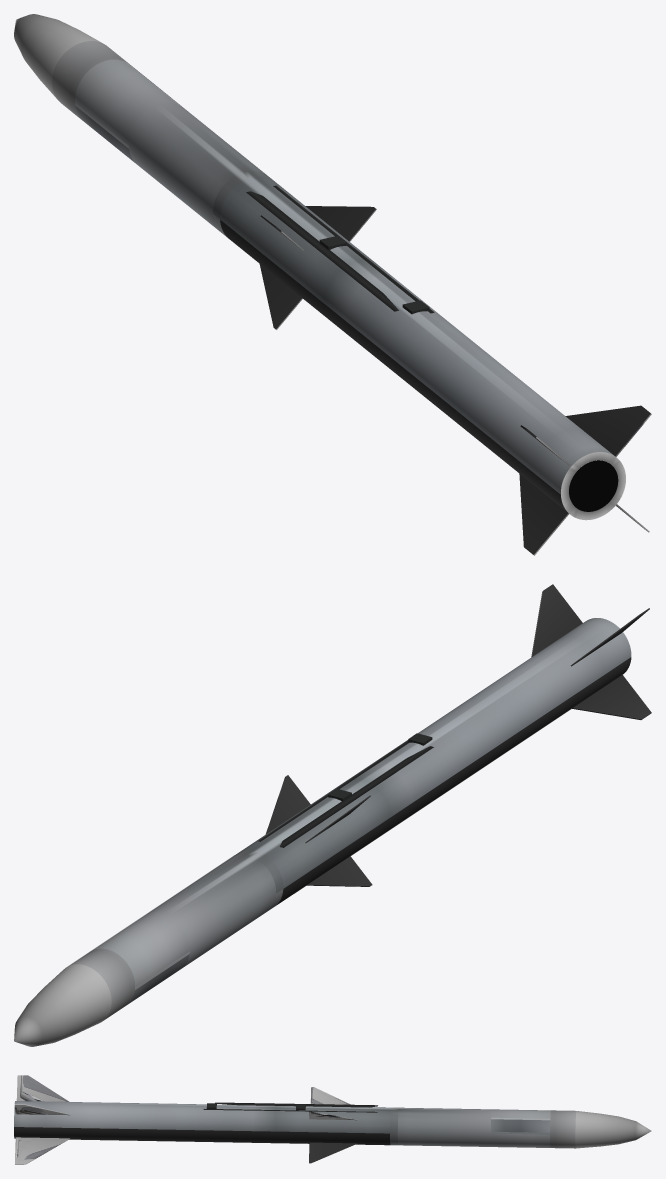
Rendered from msl_aim120.glb.
3 renders of one model, top to bottom at view 1: azimuth 30°, elevation 25°; view 2: azimuth 150°, elevation 25°; view 3: azimuth 270°, elevation 25°, orthographic. The views are drawn at different scales.
Visible parts, largest first — view 1: body|Fa18_R, body|Material.003, body|Darker_paint, body|darkenss, body|white_mat; view 2: body|Fa18_R, body|Material.003, body|Darker_paint; view 3: body|Fa18_R, body|Material.003, body|F15_R, body|Darker_paint.
Part boxes in pixels (x1,y1,x2,y2): body|Fa18_R: [14, 14, 613, 494]; body|Material.003: [220, 206, 650, 554]; body|Darker_paint: [246, 185, 434, 314]; body|darkenss: [569, 460, 618, 511]; body|white_mat: [561, 452, 625, 520]; body|Fa18_R: [14, 618, 631, 1046]; body|Material.003: [266, 584, 651, 905]; body|Darker_paint: [258, 733, 433, 847]; body|Fa18_R: [14, 1101, 651, 1148]; body|Material.003: [14, 1111, 390, 1164]; body|F15_R: [14, 1075, 357, 1164]; body|Darker_paint: [203, 1102, 377, 1112].
Bounding box in the file's own units: 0.4595 × 0.4141 × 3.86.
6 materials, 2 textured.
